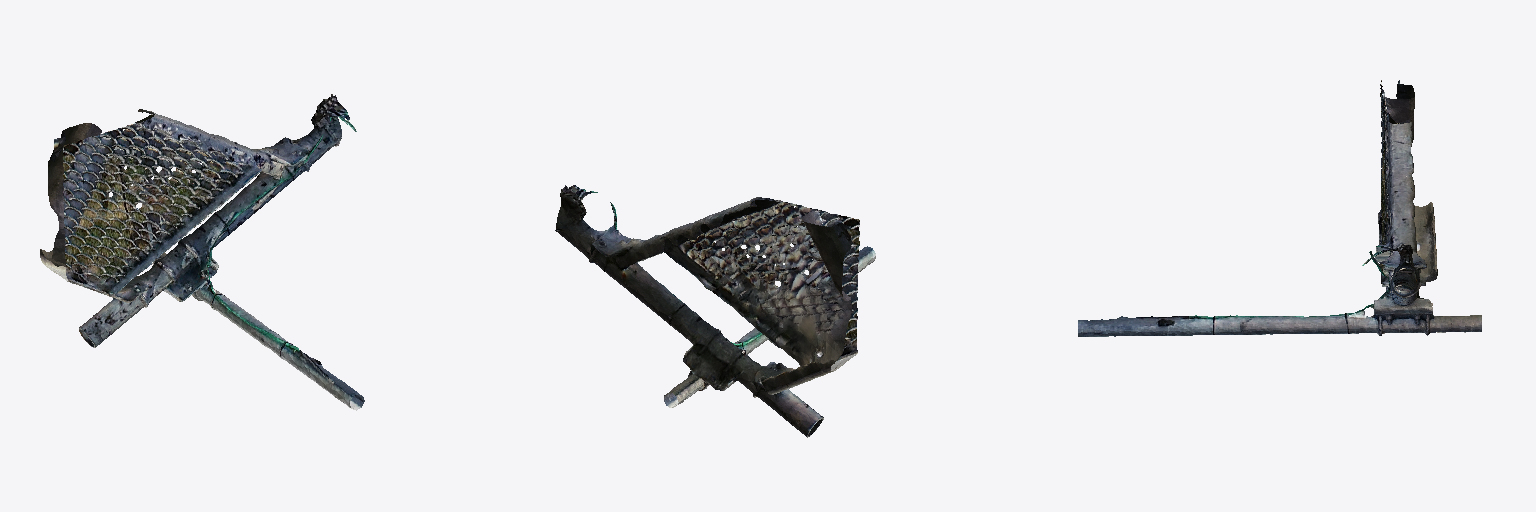
The picture shows the model from 3 angles: view 1: azimuth 30°, elevation 25°; view 2: azimuth 150°, elevation 25°; view 3: azimuth 270°, elevation 25°; orthographic projection.
Size of the model in its own units: 1.15 by 0.8523 by 1.41.
2 materials, 1 textured.